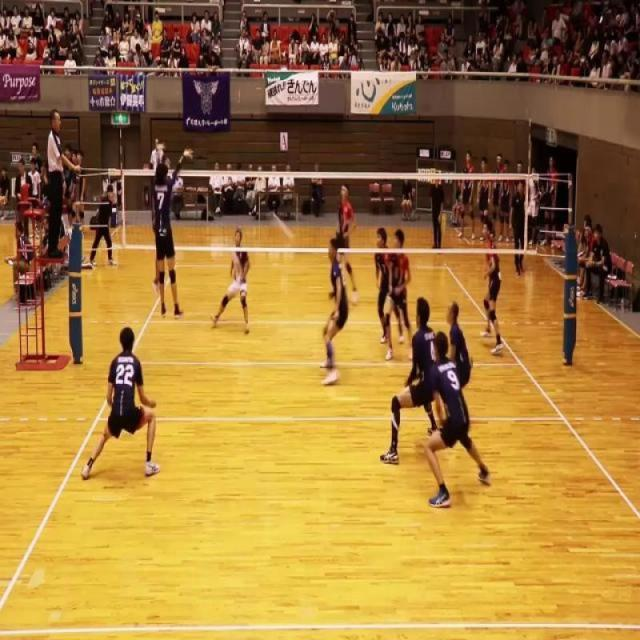volleyball: (272, 212, 296, 247)
